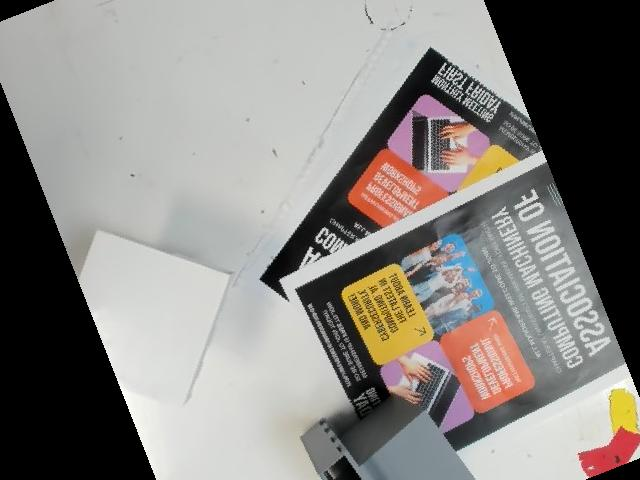grey pallet: (291, 390, 521, 480)
white pallet: (73, 209, 252, 411)
